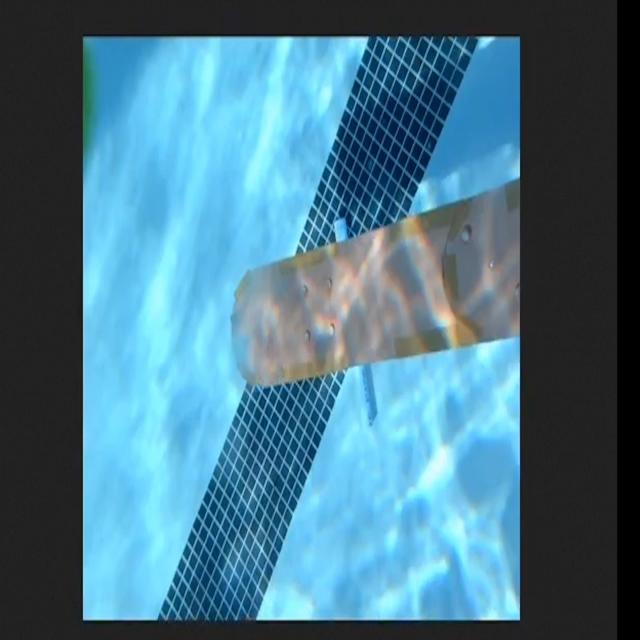Path: (231, 172, 521, 399)
